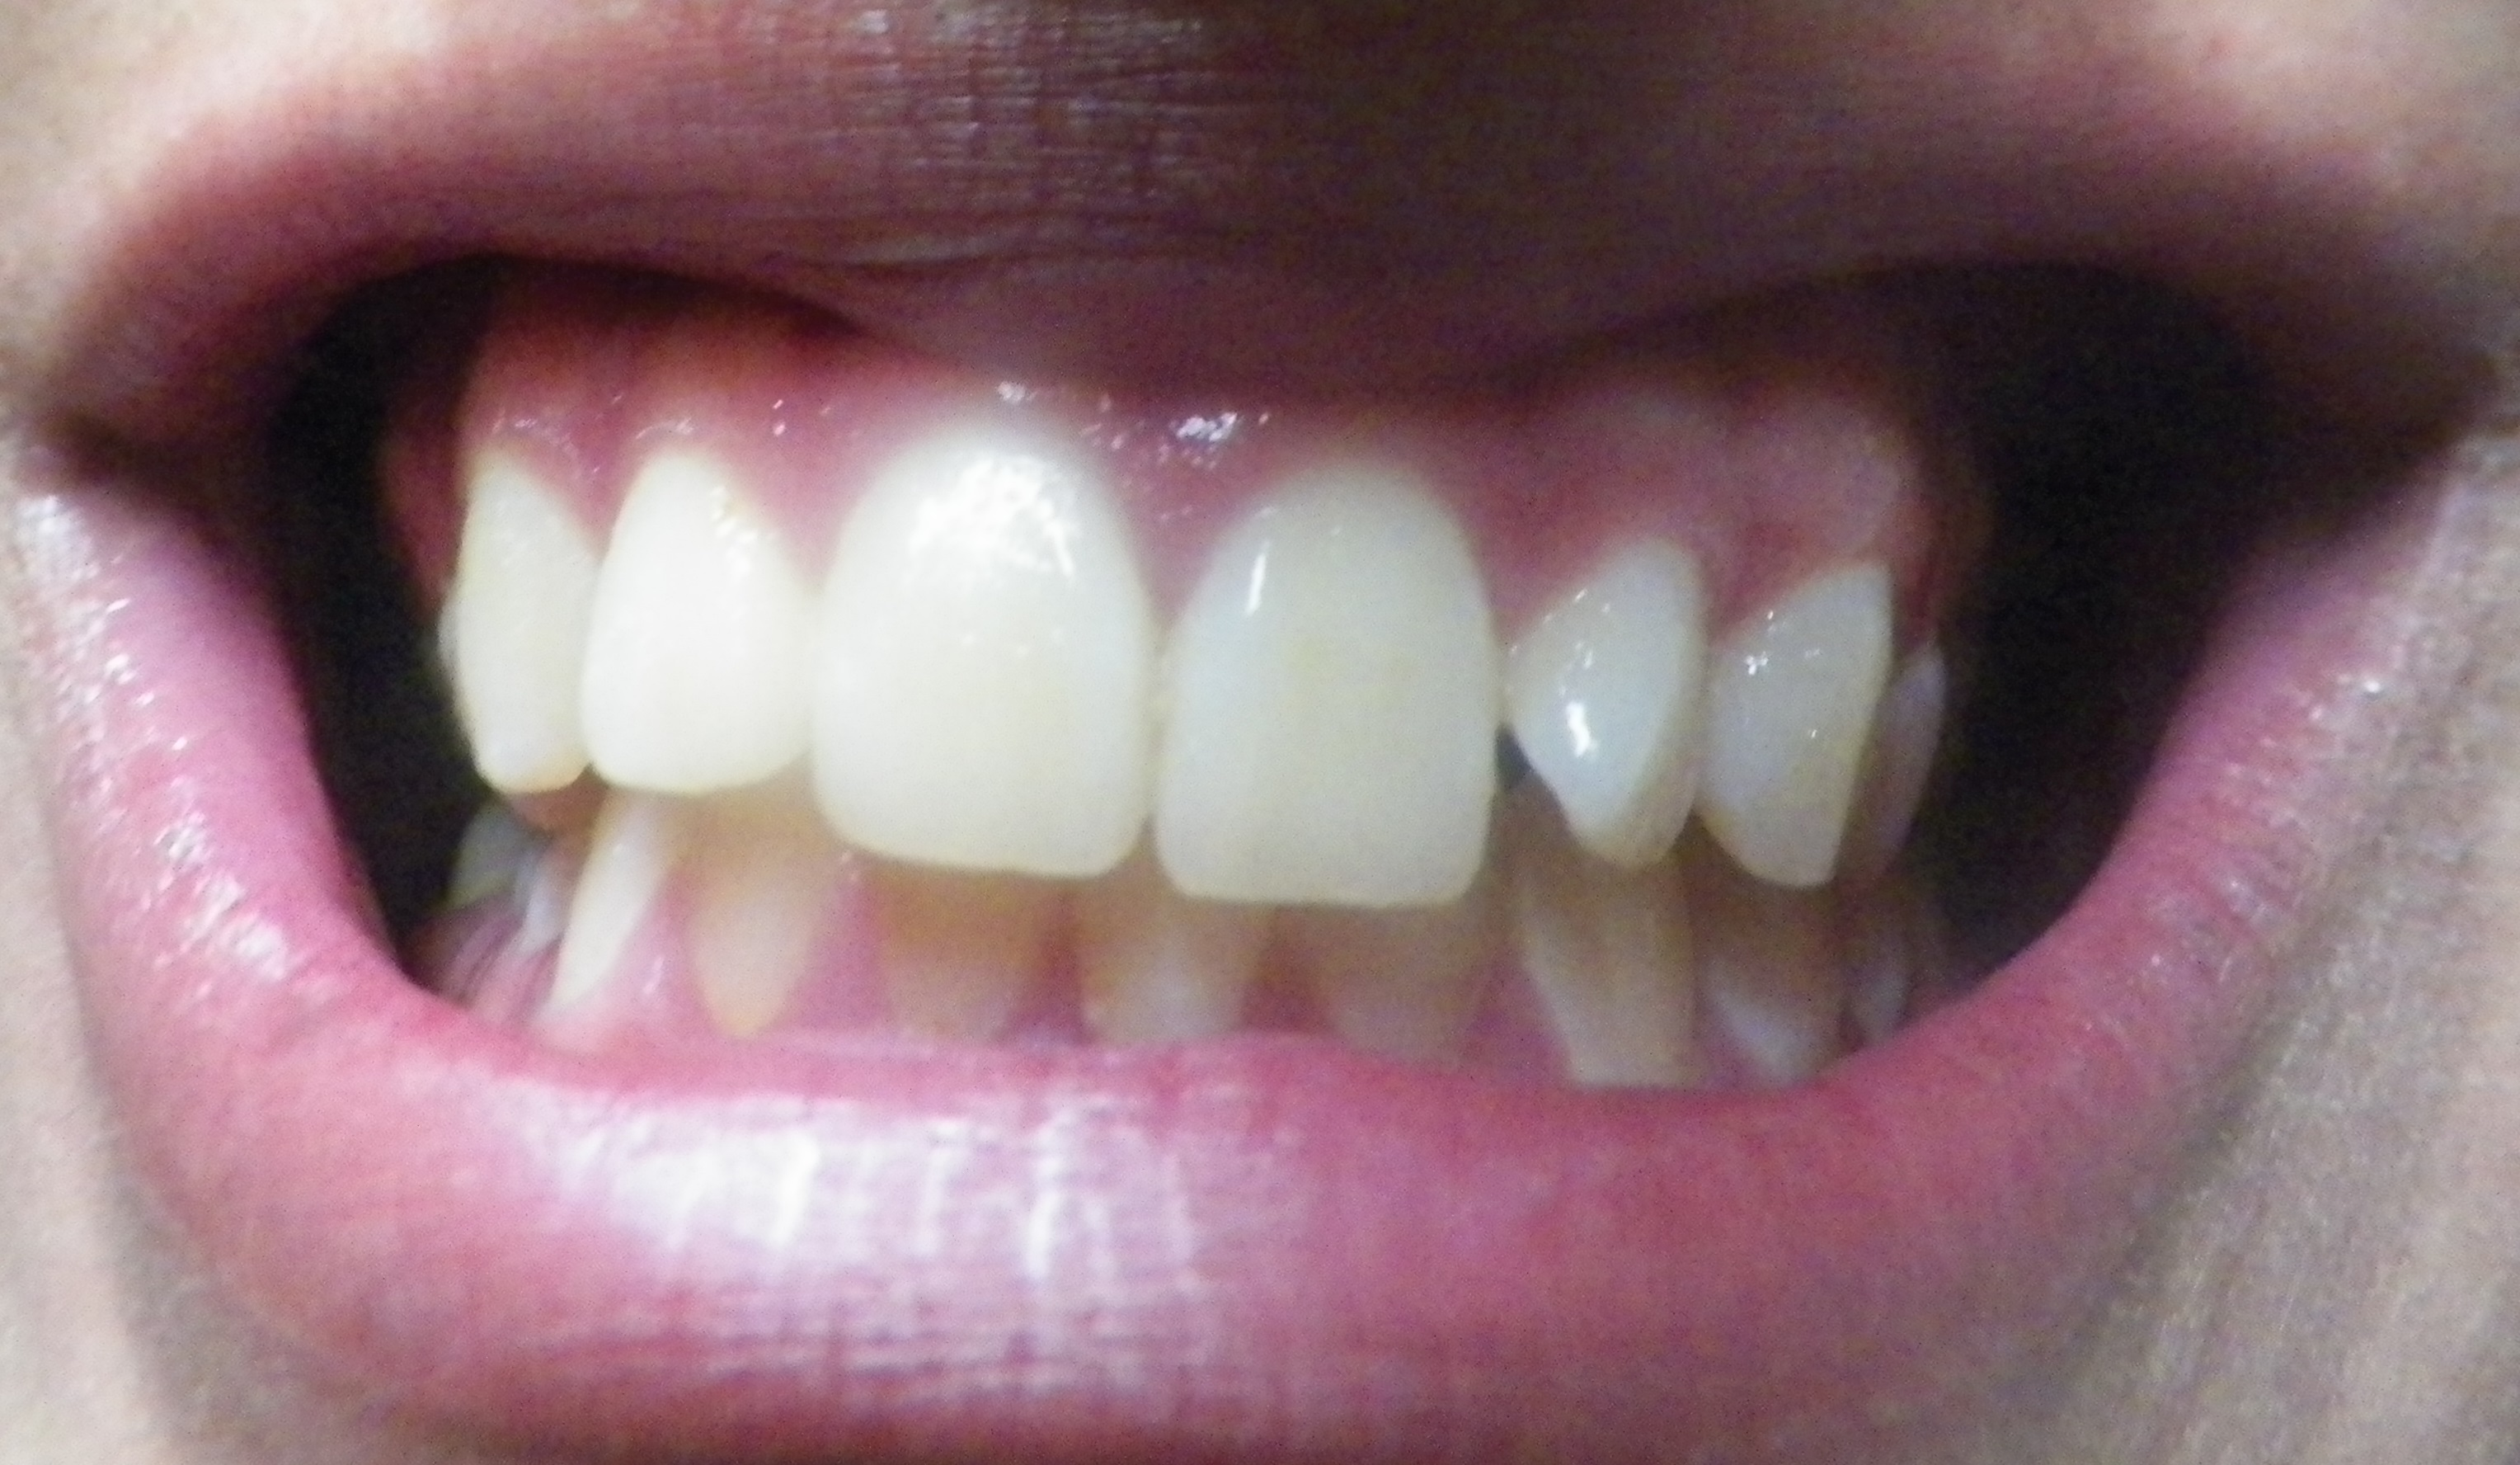boca: (415, 445, 1969, 1059)
